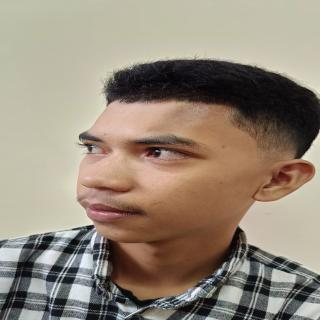Takut: (63, 87, 271, 251)
